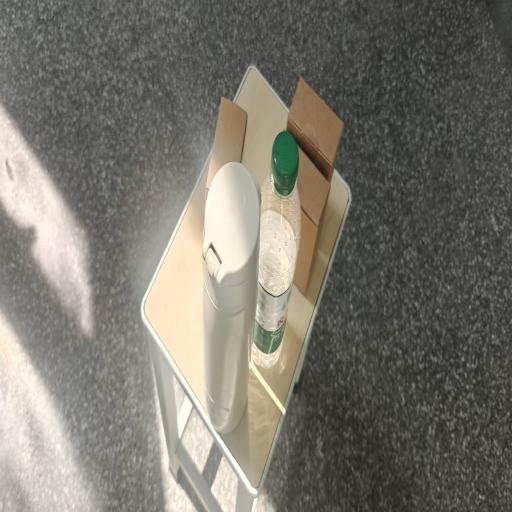bottle: (202, 162, 261, 433), (252, 131, 301, 365)
box: (289, 130, 330, 295), (286, 77, 344, 182), (205, 97, 247, 205)
